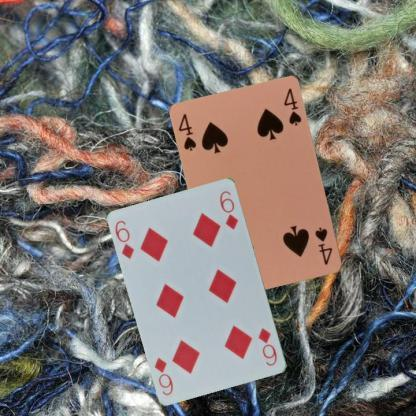4s: (312, 224, 334, 266), (176, 110, 198, 152)
6d: (112, 218, 136, 260), (256, 326, 278, 368)
